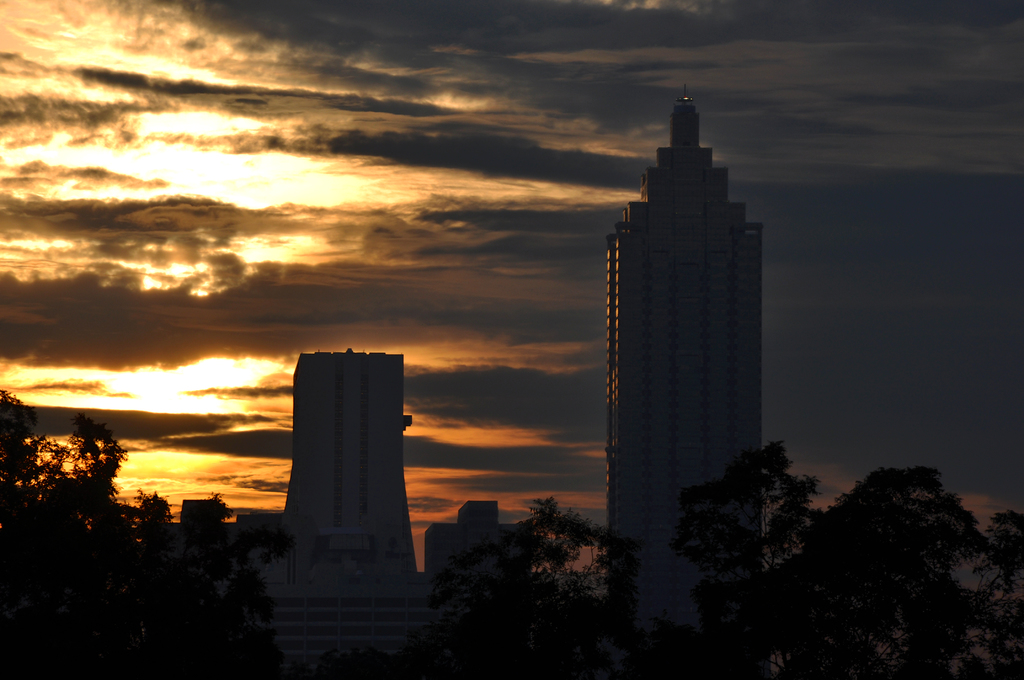Tree: (0, 387, 1022, 679)
